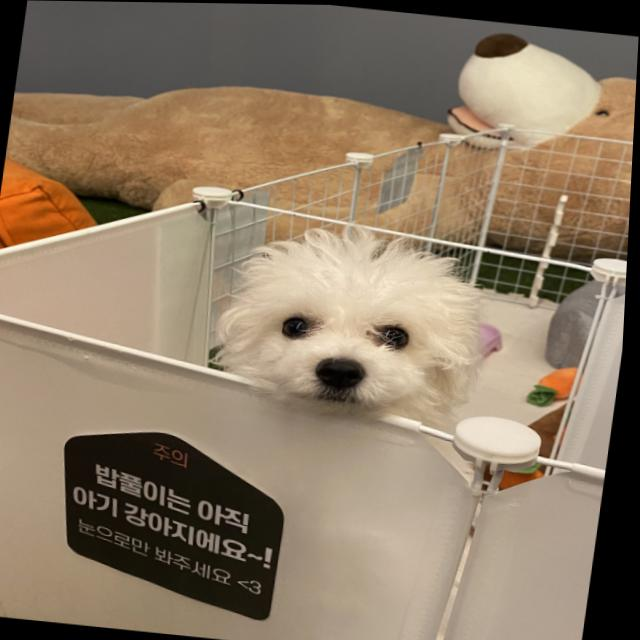dog-maltese: (209, 219, 499, 427)
